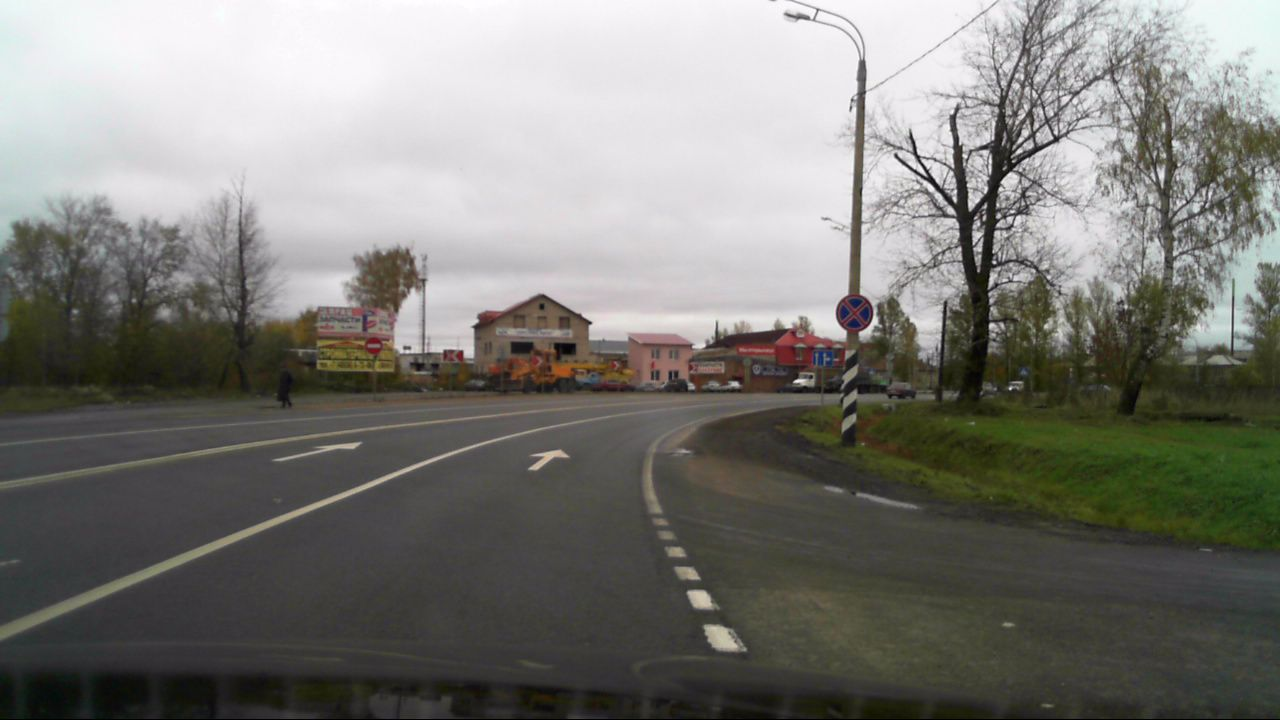No Parking: (835, 294, 873, 333)
